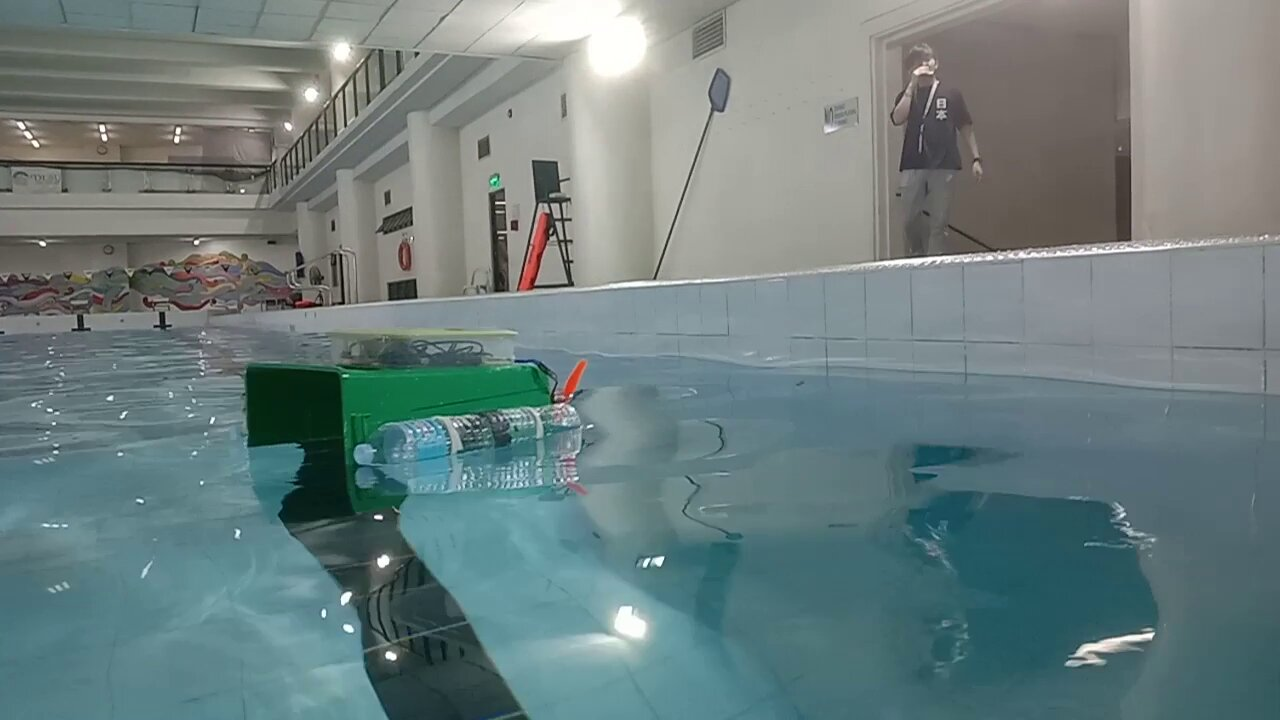drone: (244, 328, 588, 467)
